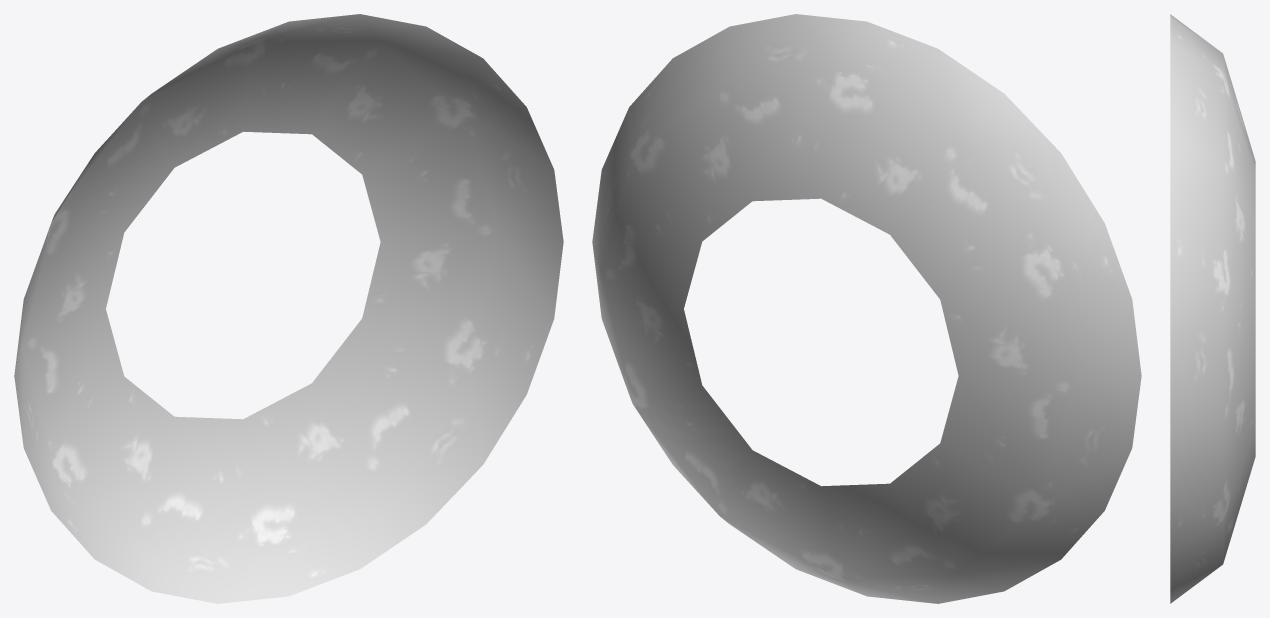
Rendered from polygon0.006.obj.
The picture shows the model from 3 angles, left to right: view 1: azimuth 30°, elevation 25°; view 2: azimuth 150°, elevation 25°; view 3: azimuth 270°, elevation 25°; orthographic projection. The views are drawn at different scales.
Parts seen in each view (by area): view 1: polygon0.004; view 2: polygon0.004; view 3: polygon0.004.
Part boxes in pixels (<box>): polygon0.004: <box>14,14,563,603</box>; polygon0.004: <box>592,14,1141,603</box>; polygon0.004: <box>1170,14,1255,603</box>.
Bounding box in the file's own units: 140000 × 140000 × 20187.
1 material, 1 textured.
